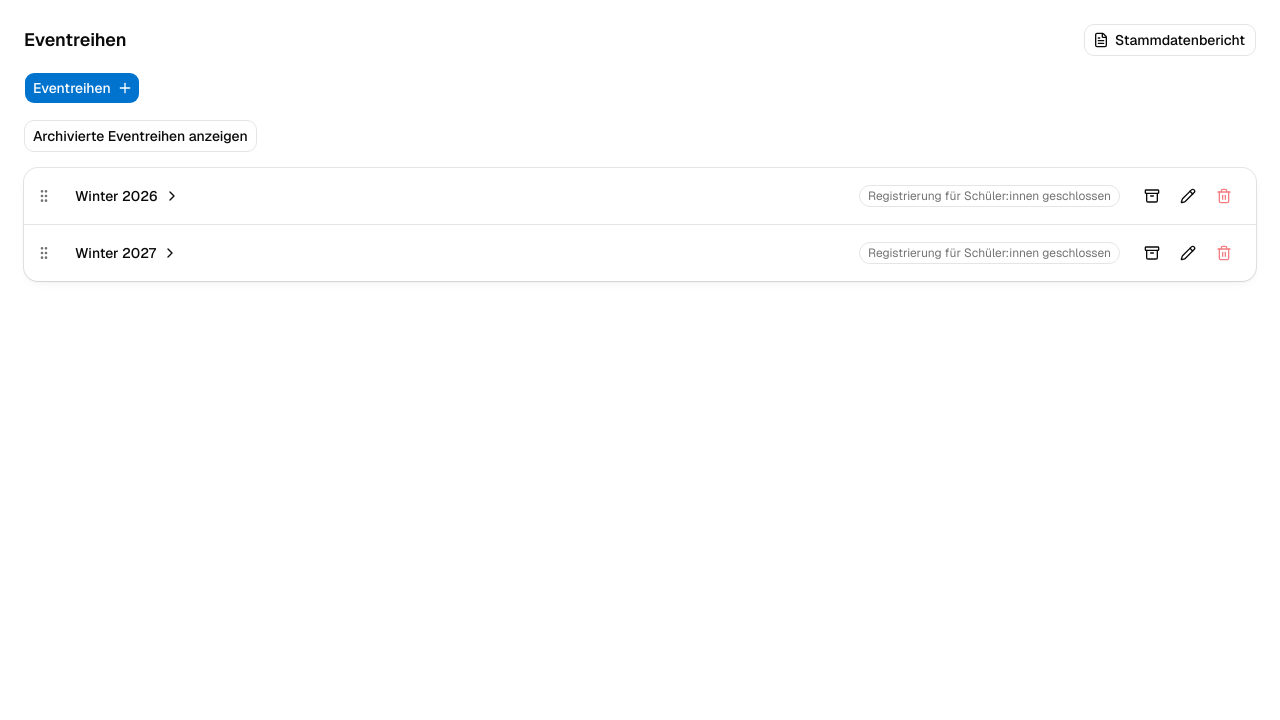
Test: EventSeriesView — archived visibility › takes the archived ones into the report once they are revealed, and says so
Click the button "Archivierte Eventreihen anzeigen": click(140, 136) [31,126,250,146]
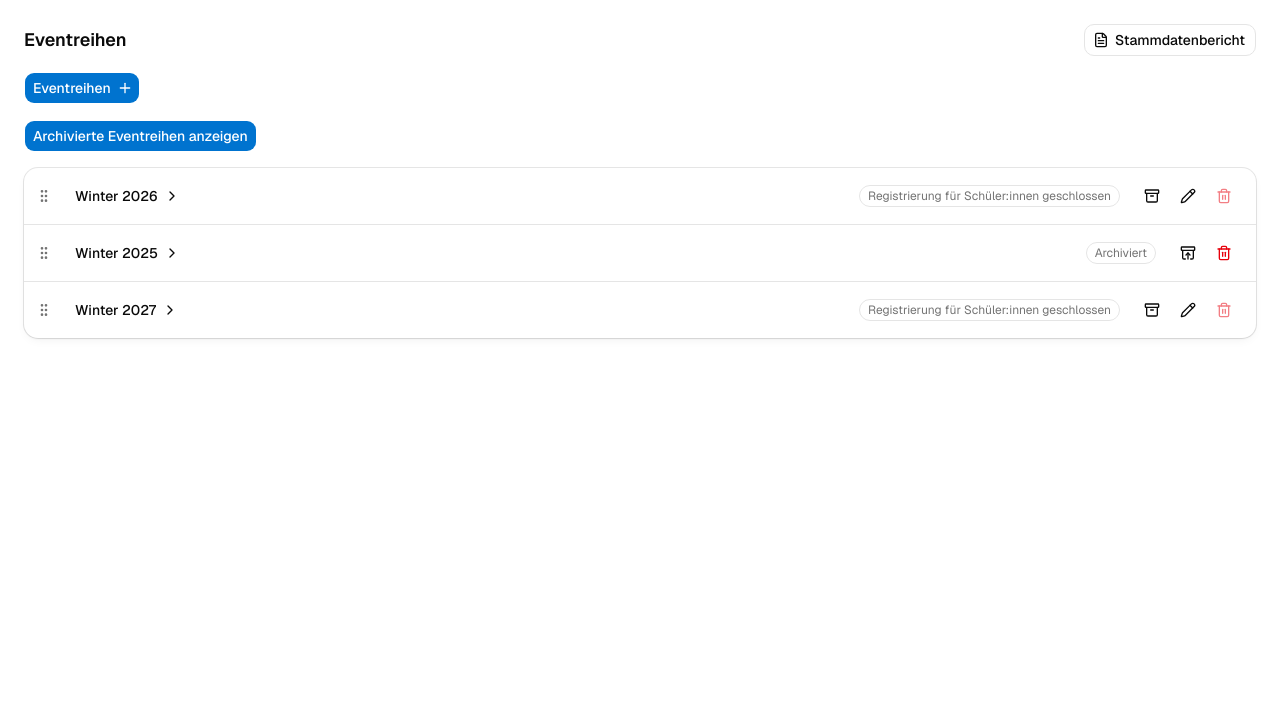
Click the button "Stammdatenbericht": click(1170, 40) [1084,24,1256,56]
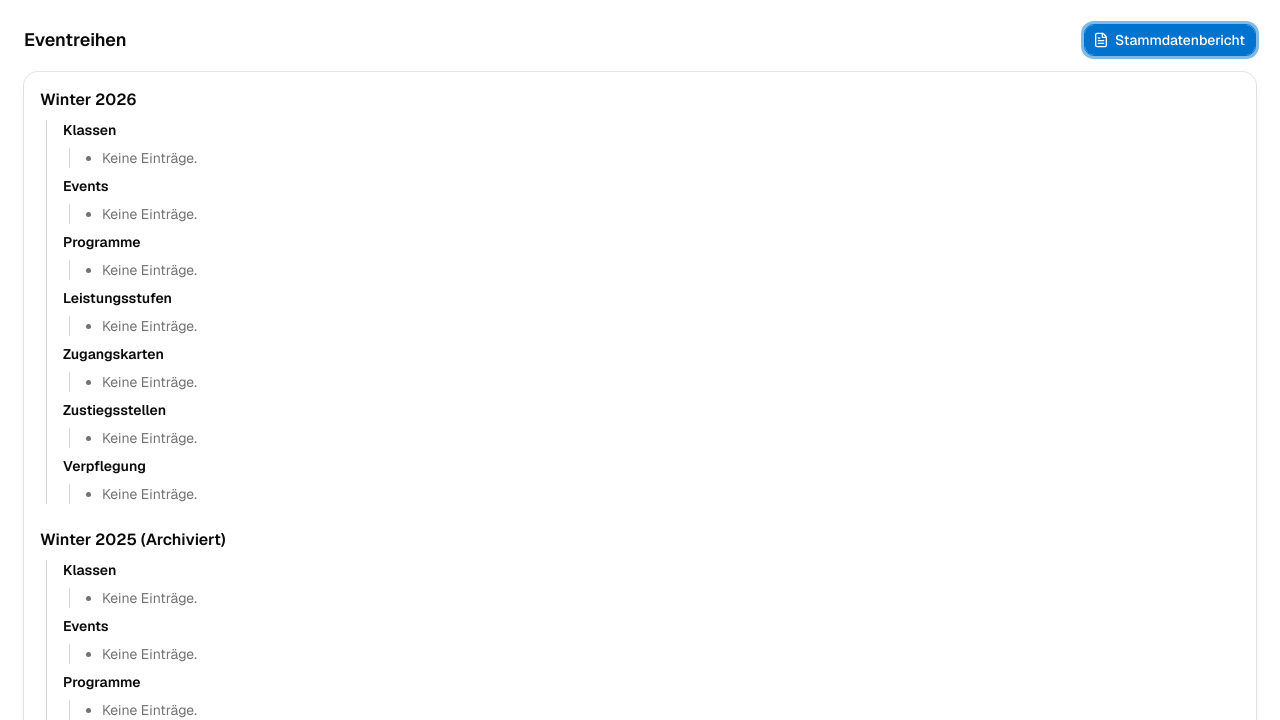
Check: the heading "Winter 2025 (Archiviert)" is shown, box [40,529,226,550]
